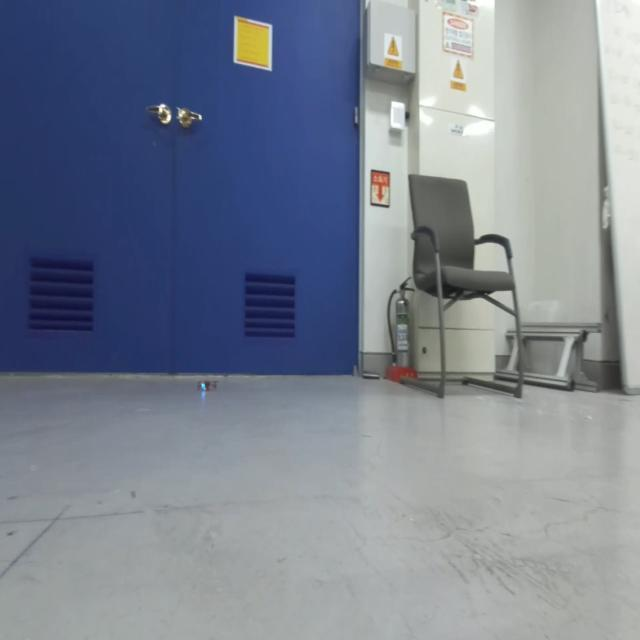crazyflie: (195, 374, 220, 397)
